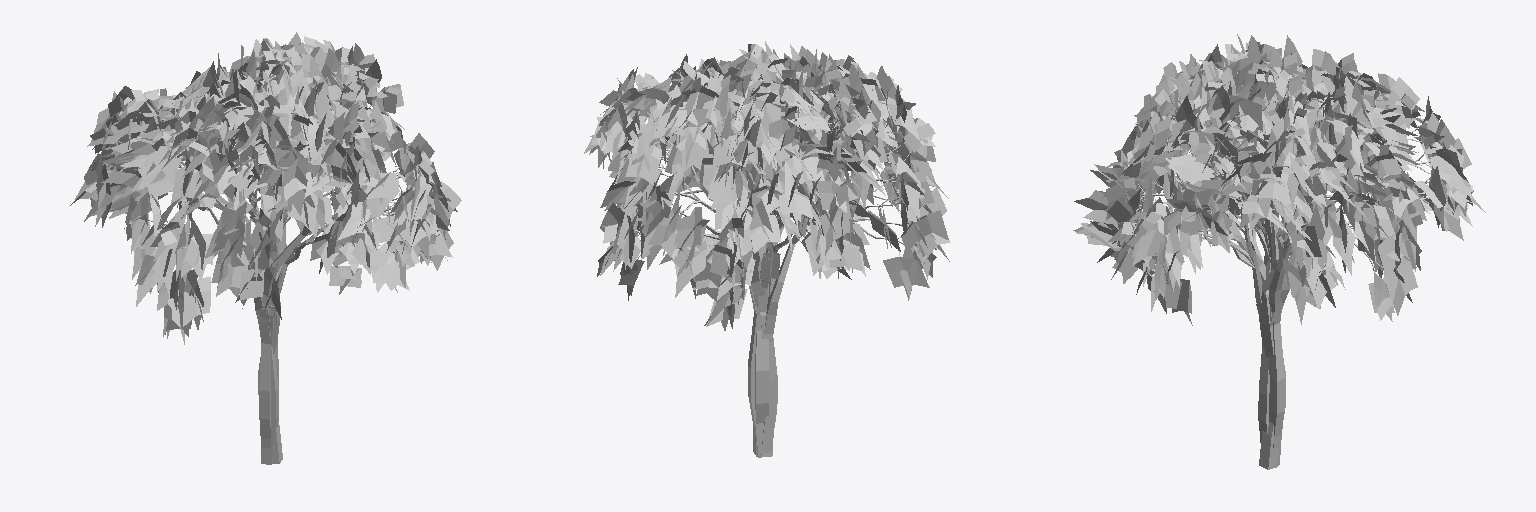
The model's file is tree.obj.
3 renders of one model, left to right at view 1: azimuth 30°, elevation 25°; view 2: azimuth 150°, elevation 25°; view 3: azimuth 270°, elevation 25°, orthographic.
Parts seen in each view (by area): view 1: Mossy_Tr; view 2: Mossy_Tr; view 3: Mossy_Tr.
Part boxes in pixels (bbox=[...]): Mossy_Tr: bbox=[70, 32, 461, 464]; Mossy_Tr: bbox=[584, 41, 950, 457]; Mossy_Tr: bbox=[1073, 34, 1485, 469].
Bounding box in the file's own units: 19.21 × 24.69 × 22.66.